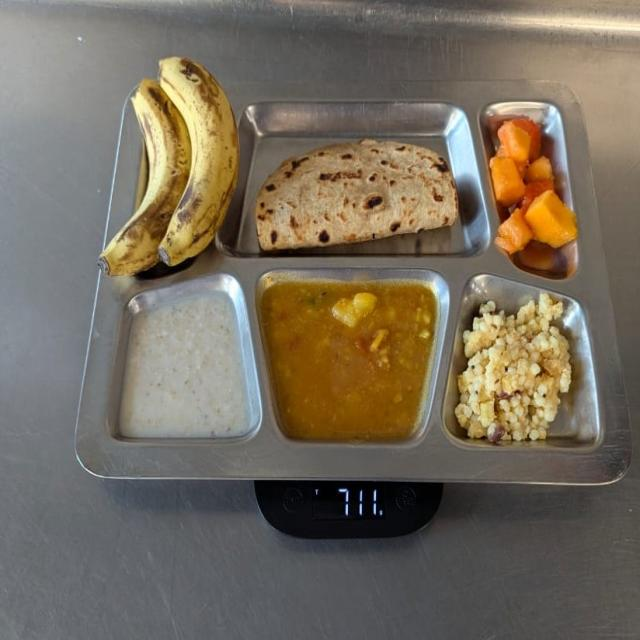Aloo Sabji: (264, 276, 433, 440)
Banana: (89, 56, 240, 275)
Chapati: (257, 138, 457, 249)
Khichdi: (458, 294, 574, 446)
Papaya: (486, 115, 580, 258)
Porridge: (120, 285, 252, 439)
